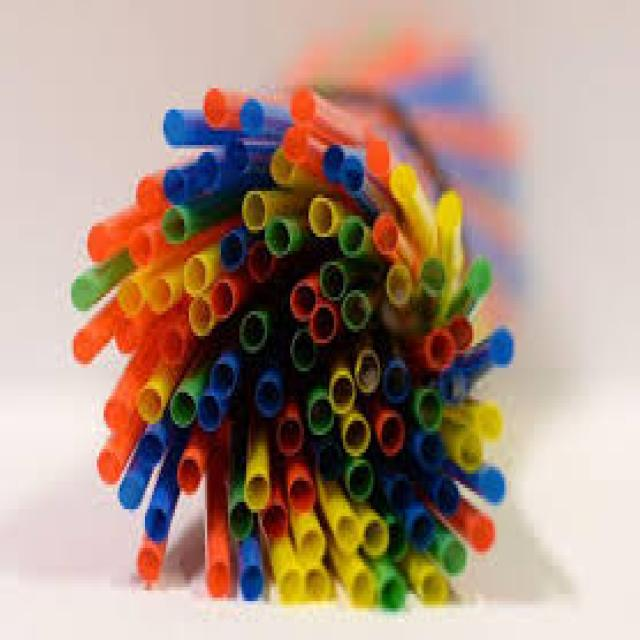plastic: (64, 318, 105, 377)
